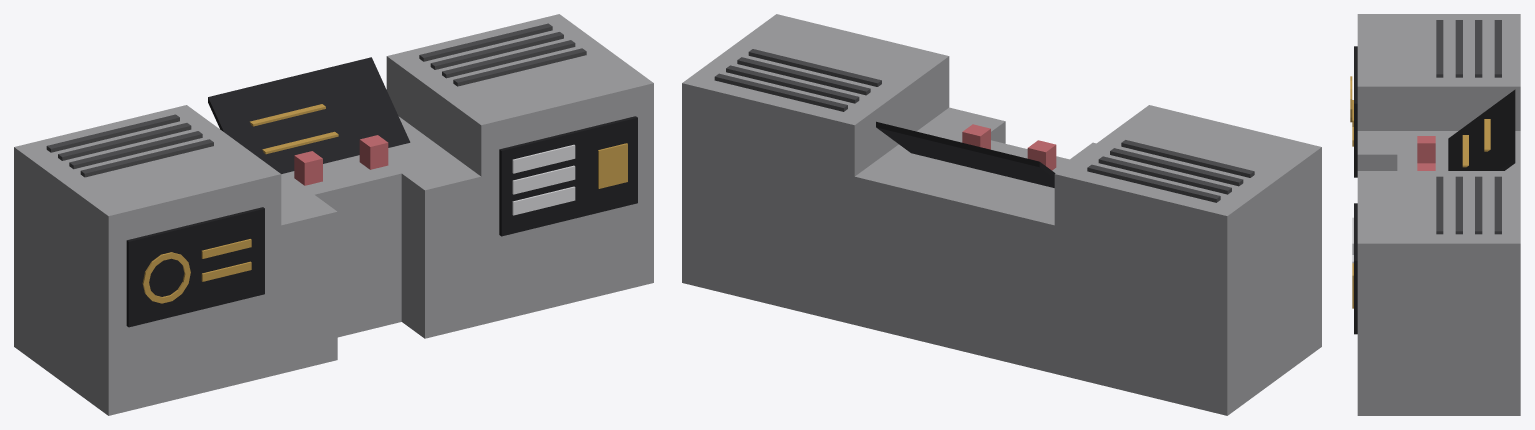
Rendered from vge_copilot_console.obj.
3 renders of one model, left to right at view 1: azimuth 30°, elevation 25°; view 2: azimuth 150°, elevation 25°; view 3: azimuth 270°, elevation 25°, orthographic. The views are drawn at different scales.
Parts seen in each view (by area): view 1: vge_copilot_console_3, vge_copilot_console_12, vge_copilot_console_0, vge_copilot_console_2, vge_copilot_console_22, vge_copilot_console_8, vge_copilot_console_1, vge_copilot_console_17, vge_copilot_console_21, vge_copilot_console_7, vge_copilot_console_16, vge_copilot_console_4 (+11 smaller); view 2: vge_copilot_console_3, vge_copilot_console_12, vge_copilot_console_0, vge_copilot_console_22, vge_copilot_console_2, vge_copilot_console_14, vge_copilot_console_16, vge_copilot_console_7, vge_copilot_console_4, vge_copilot_console_5, vge_copilot_console_6, vge_copilot_console_13 (+2 smaller); view 3: vge_copilot_console_12, vge_copilot_console_3, vge_copilot_console_22, vge_copilot_console_0, vge_copilot_console_1, vge_copilot_console_25, vge_copilot_console_8, vge_copilot_console_17, vge_copilot_console_13, vge_copilot_console_14, vge_copilot_console_15, vge_copilot_console_16 (+6 smaller).
Part boxes in pixels (<box>): vge_copilot_console_3: <box>14,105,281,415</box>; vge_copilot_console_12: <box>386,14,653,324</box>; vge_copilot_console_0: <box>281,116,457,337</box>; vge_copilot_console_2: <box>401,160,481,338</box>; vge_copilot_console_22: <box>208,57,410,173</box>; vge_copilot_console_8: <box>126,207,264,327</box>; vge_copilot_console_1: <box>281,195,337,373</box>; vge_copilot_console_17: <box>499,116,637,236</box>; vge_copilot_console_21: <box>598,143,627,188</box>; vge_copilot_console_7: <box>46,114,179,152</box>; vge_copilot_console_16: <box>419,23,552,61</box>; vge_copilot_console_4: <box>80,139,213,177</box>; vge_copilot_console_3: <box>1054,105,1321,415</box>; vge_copilot_console_12: <box>682,14,949,324</box>; vge_copilot_console_0: <box>854,124,1072,373</box>; vge_copilot_console_22: <box>876,121,1055,187</box>; vge_copilot_console_2: <box>926,107,1005,143</box>; vge_copilot_console_14: <box>737,57,870,95</box>; vge_copilot_console_16: <box>714,73,847,111</box>; vge_copilot_console_7: <box>1087,164,1220,202</box>; vge_copilot_console_4: <box>1121,140,1254,177</box>; vge_copilot_console_5: <box>1110,148,1243,186</box>; vge_copilot_console_6: <box>1098,156,1231,194</box>; vge_copilot_console_13: <box>748,49,881,86</box>; vge_copilot_console_12: <box>1357,171,1520,415</box>; vge_copilot_console_3: <box>1357,14,1520,130</box>; vge_copilot_console_22: <box>1448,89,1515,170</box>; vge_copilot_console_0: <box>1397,131,1520,170</box>; vge_copilot_console_1: <box>1357,131,1397,170</box>; vge_copilot_console_25: <box>1417,136,1435,163</box>; vge_copilot_console_8: <box>1354,46,1357,177</box>; vge_copilot_console_17: <box>1354,203,1357,334</box>; vge_copilot_console_13: <box>1436,176,1443,234</box>; vge_copilot_console_14: <box>1455,176,1462,234</box>; vge_copilot_console_15: <box>1475,176,1482,234</box>; vge_copilot_console_16: <box>1494,176,1501,234</box>.
Bounding box in the file's own units: 3 × 1.08 × 0.94.
